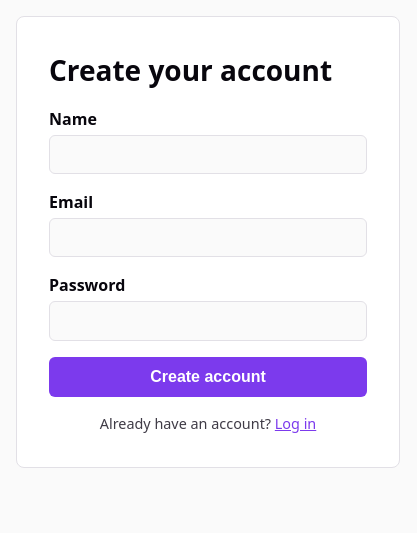
Test: RegisterPage › shows the duplicate-email error on the email field
Type "New User" into the field labelled "Name".
click(208, 155); type("New User")  # box [49, 135, 367, 174]
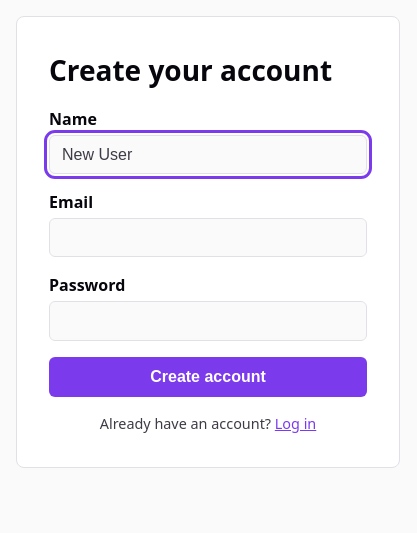
Type "new@example.com" into the field labelled "Email".
click(208, 238); type("new@example.com")  # box [49, 218, 367, 257]
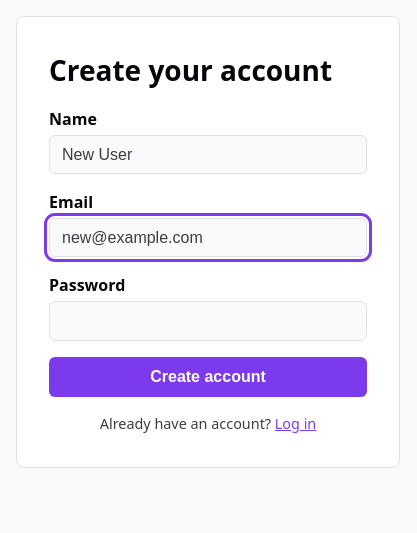
Type "password123" into the password field labelled "Password".
click(208, 321); type("password123")  # box [49, 301, 367, 341]
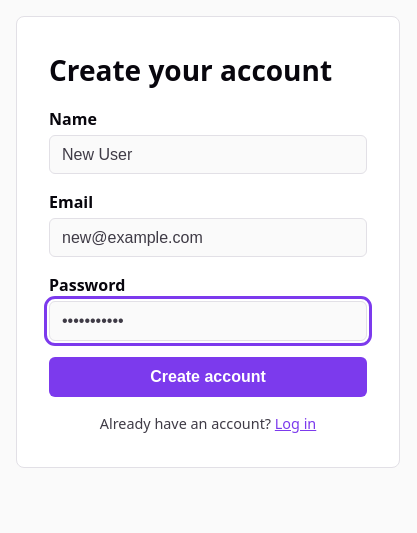
Click the button "Create account".
click(208, 377)  # box [49, 357, 367, 397]
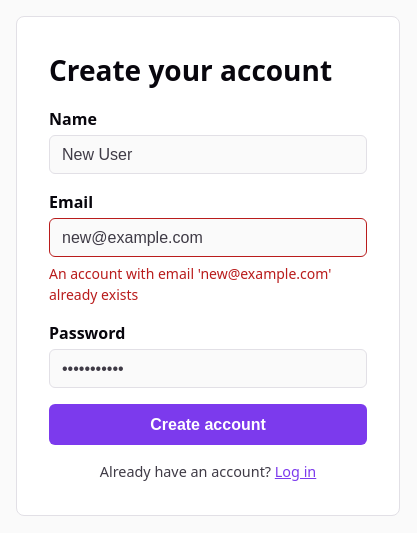
Expected: the text "An account with email 'new@example.com' already exists" is shown, [49, 263, 367, 305]
